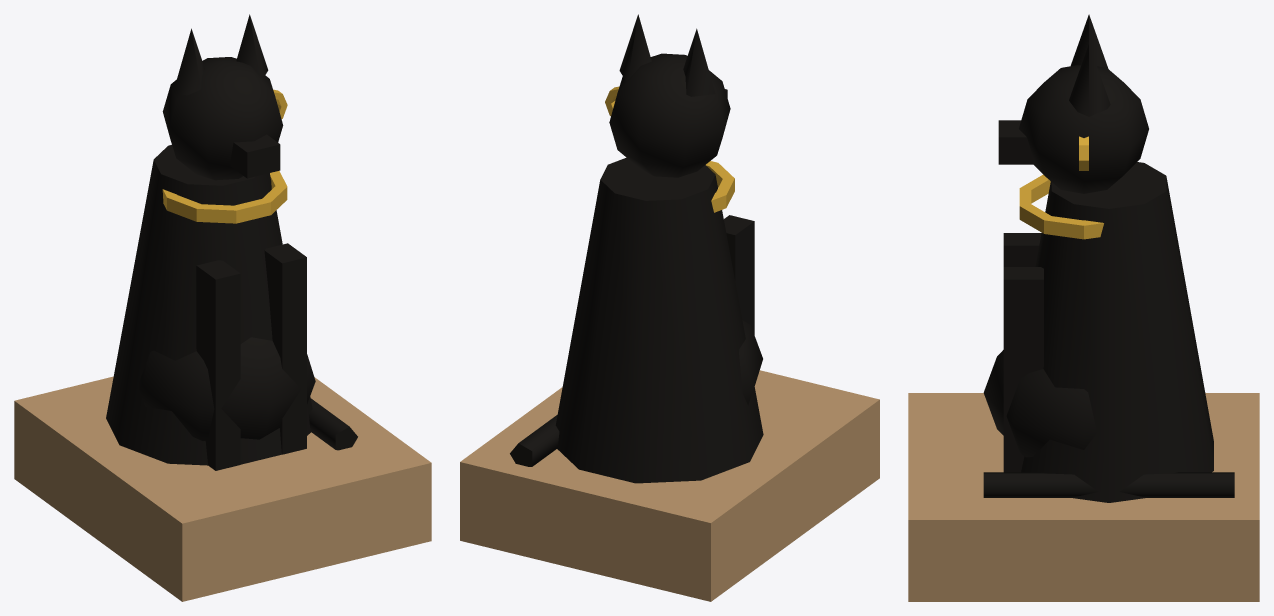
Rendered from eg_cat_statue.glb.
3 renders of one model, left to right at view 1: azimuth 30°, elevation 25°; view 2: azimuth 150°, elevation 25°; view 3: azimuth 270°, elevation 25°, orthographic. The views are drawn at different scales.
Parts seen in each view (by area): view 1: eg_cat_statue; view 2: eg_cat_statue; view 3: eg_cat_statue.
Part boxes in pixels (<box>): eg_cat_statue: <box>14,14,431,601</box>; eg_cat_statue: <box>460,14,879,601</box>; eg_cat_statue: <box>908,14,1259,601</box>.
Bounding box in the file's own units: 0.6 × 1.12 × 0.7.
